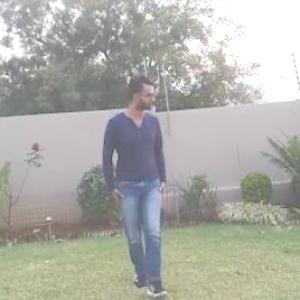follow: (103, 72, 170, 299)
